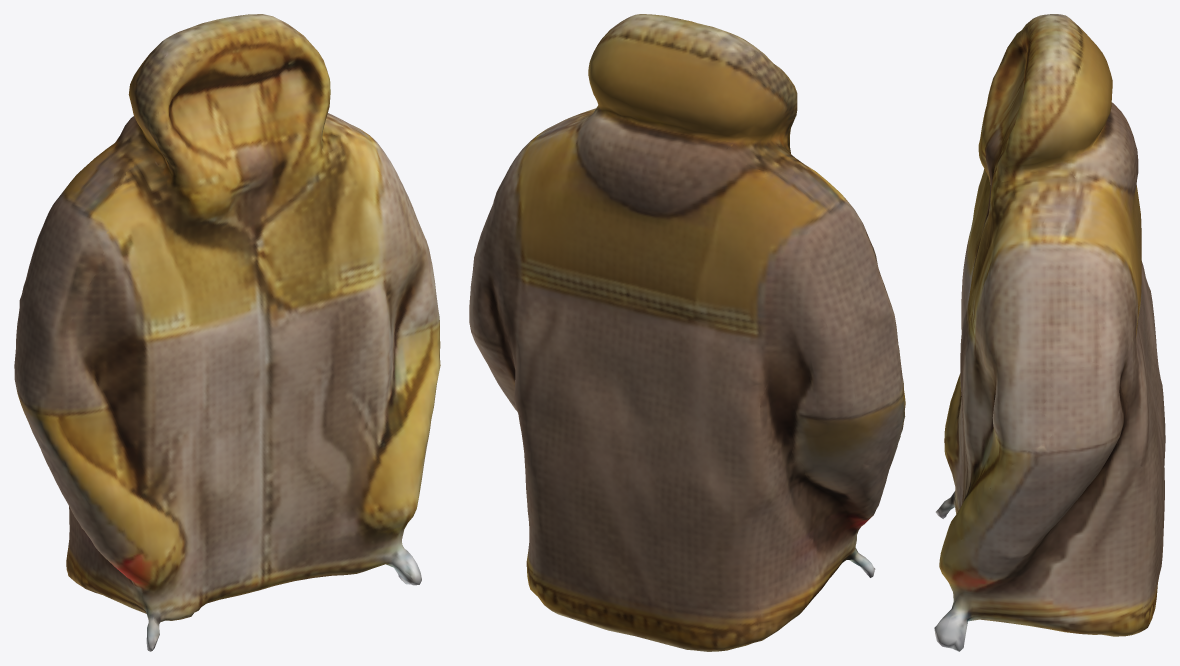
Rendered from camperax6.glb.
3 renders of one model, left to right at view 1: azimuth 30°, elevation 25°; view 2: azimuth 150°, elevation 25°; view 3: azimuth 270°, elevation 25°, orthographic. The views are drawn at different scales.
Parts seen in each view (by area): view 1: mesh; view 2: mesh; view 3: mesh.
Part boxes in pixels (left/top/right/bottom): mesh: left=14, top=14, right=440, bottom=651; mesh: left=469, top=14, right=905, bottom=651; mesh: left=934, top=14, right=1165, bottom=651.
Size of the model in its own units: 1.31 by 1.76 by 0.6573.
Materials: 1 (1 with a texture image).
